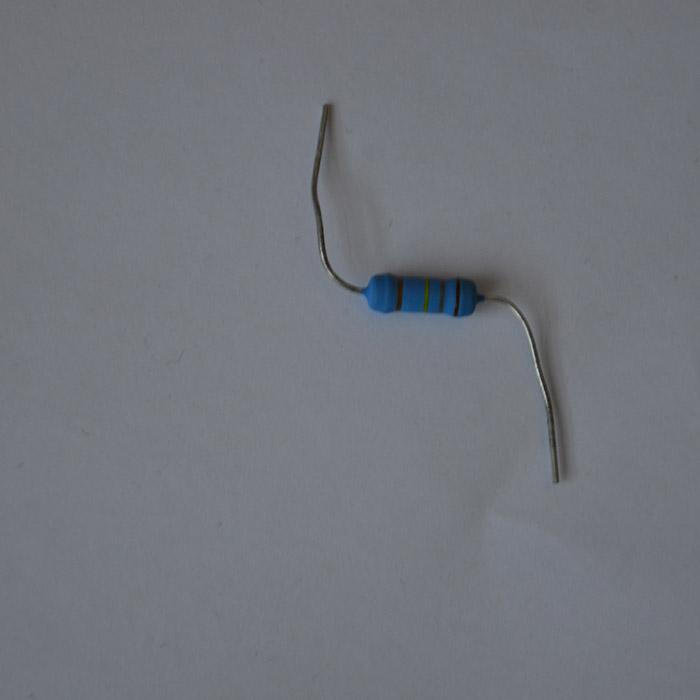resistor: (363, 272, 483, 317)
